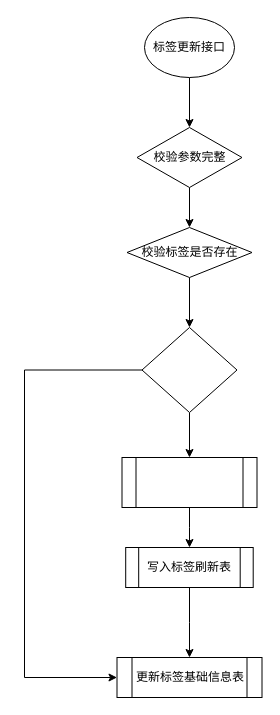
The diagram is 280 pixels wide and 715 high, and some of its shapes have lost their labels. The shapes that lost their labels are listed below. From the top down, each one's centre as x and y in pixels, then its label:
the point at 189,369: 标签是否涉及odps更新
the point at 189,482: 提交odps更新任务
